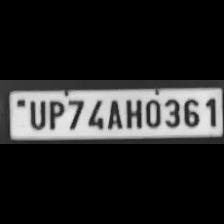0: (142, 96, 162, 128)
1: (200, 94, 220, 128)
3: (160, 96, 180, 128)
4: (84, 96, 104, 130)
6: (180, 96, 200, 128)
7: (64, 96, 84, 130)
A: (104, 96, 122, 130)
H: (122, 96, 142, 128)
P: (46, 98, 64, 130)
U: (25, 98, 47, 130)
